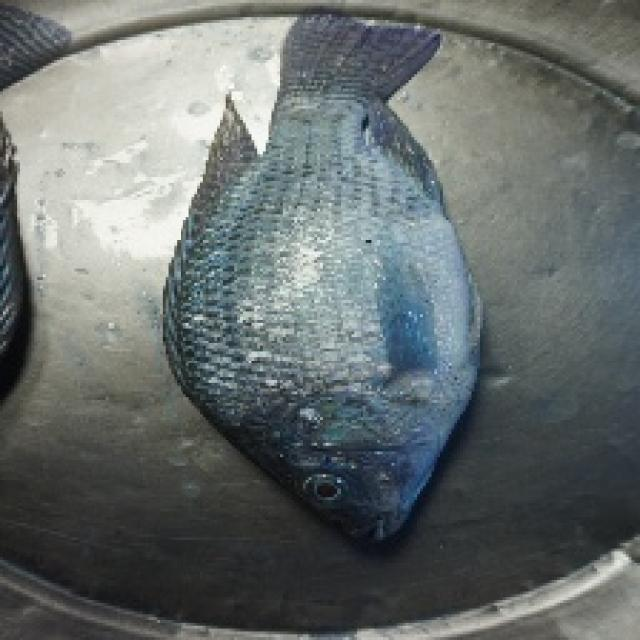Fresh: (151, 0, 545, 554)
